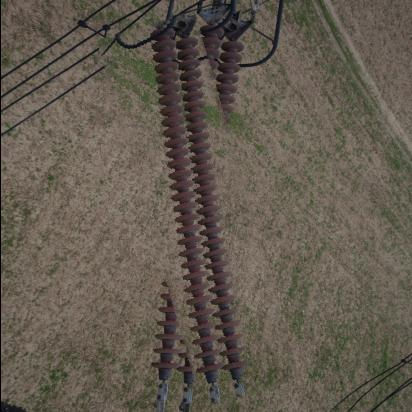insulator: (122, 16, 275, 406)
